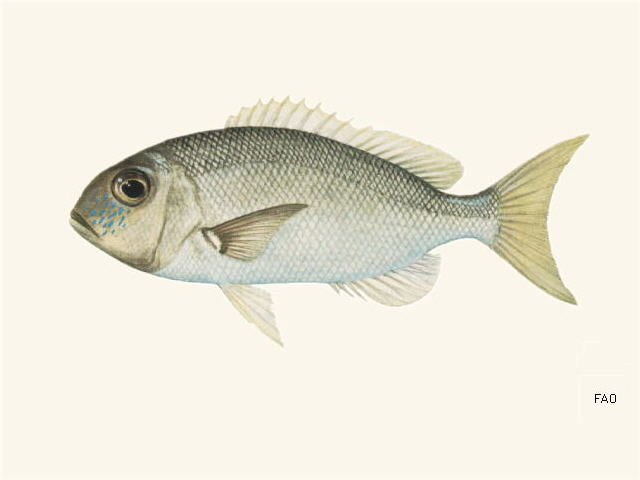fish: (68, 96, 592, 350)
